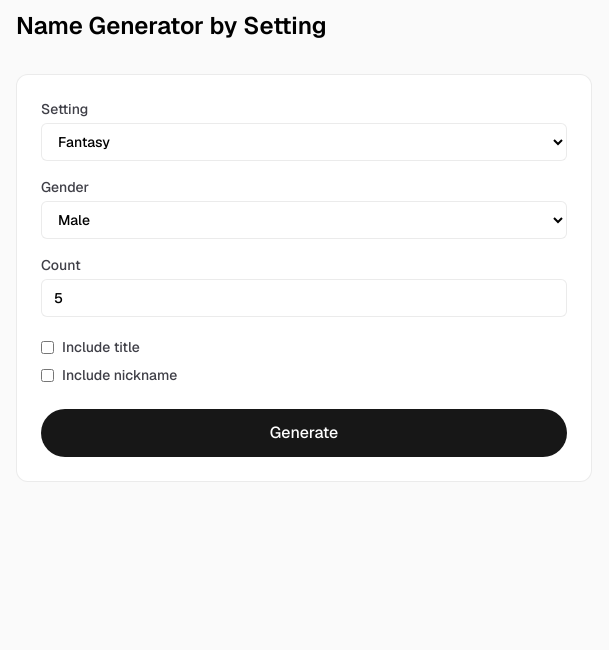
Test: Home (name generator screen) › generates exactly the requested count of names and switches the button to 'More'
Replace the text in the number field labelled "Count" with "7" at (304, 298), box top-left (41, 279), bottom-right (567, 317)
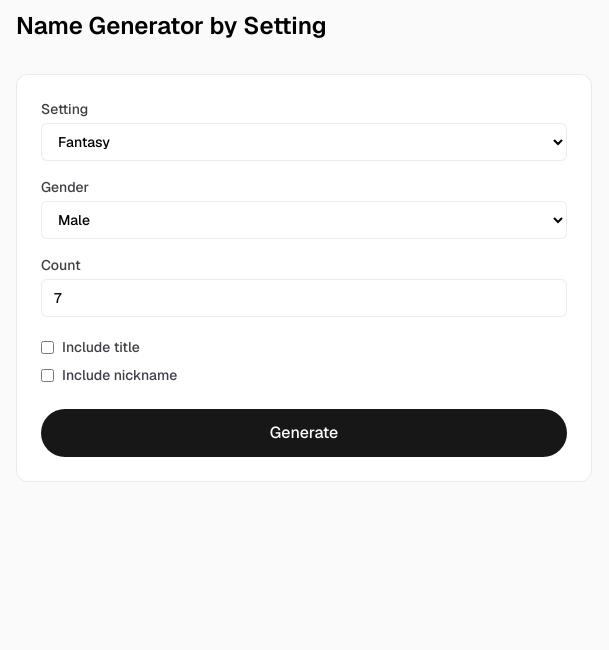
Click the button "Generate" at (304, 433), box top-left (41, 409), bottom-right (567, 457)
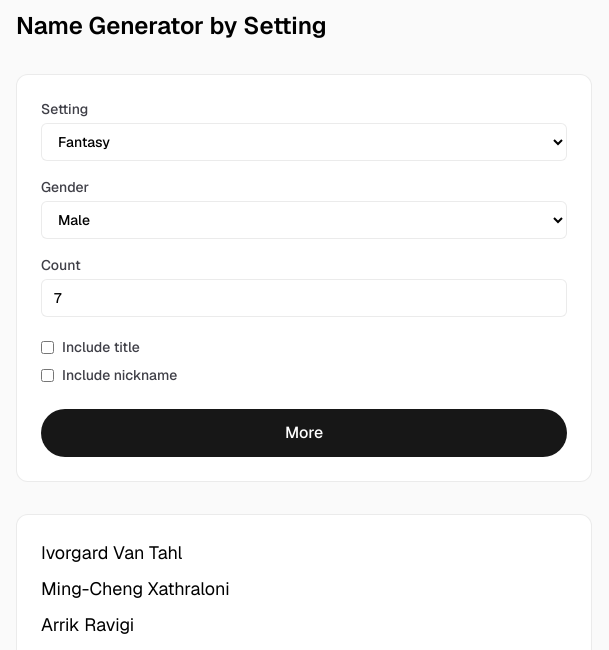
Expected: the number of list items is 7
Expected: the button "More" is shown, top-left (41, 409), bottom-right (567, 457)
